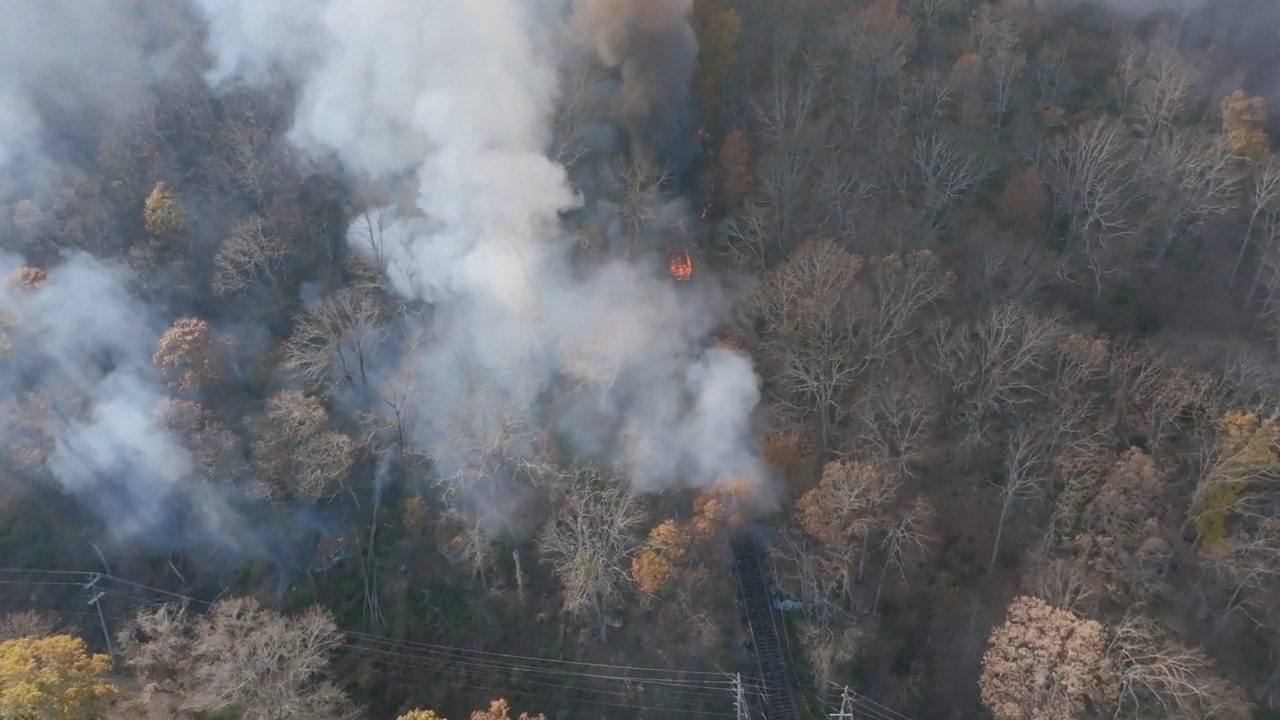fire: (668, 249, 694, 281), (695, 125, 707, 140), (699, 205, 710, 218)
smoke: (198, 0, 763, 488), (0, 252, 256, 551), (0, 0, 179, 183), (571, 0, 697, 174)
